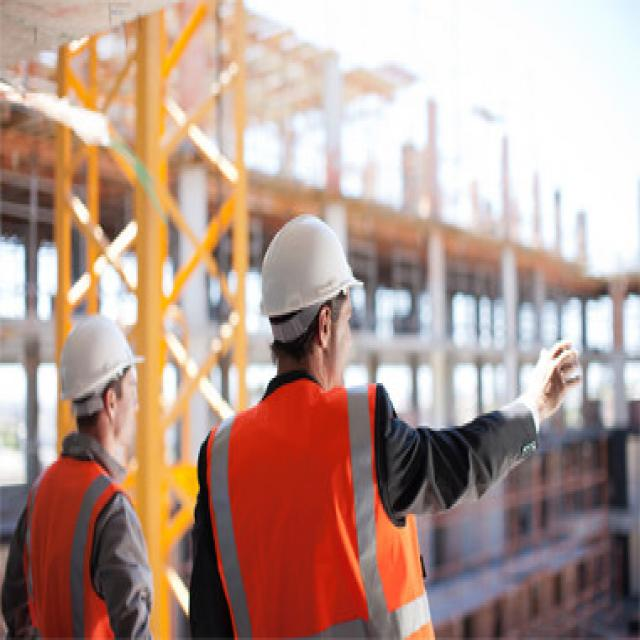Reflective-Jacket: (202, 373, 435, 640), (20, 448, 143, 638)
Safety-Helmet: (252, 207, 363, 330), (52, 305, 145, 406)
